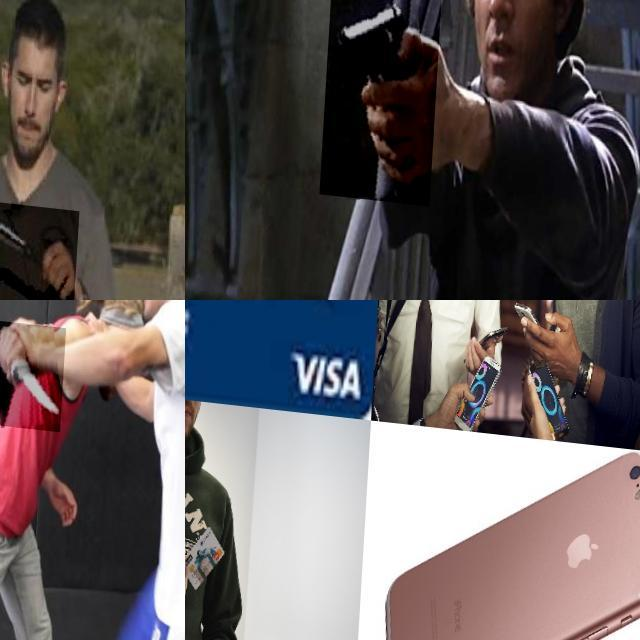-: (0, 195, 82, 300), (0, 315, 67, 426)
gun-knife-thesis - v11 Yolov5 augmented: (324, 0, 444, 198)
